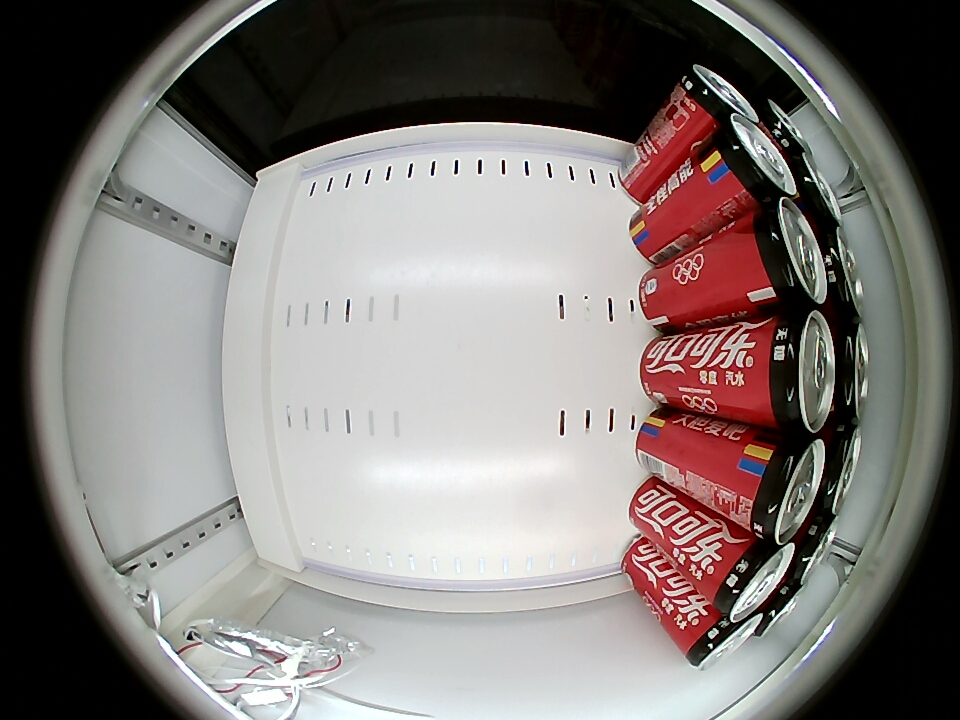lingdukele: (748, 310, 835, 433), (736, 432, 826, 546), (742, 197, 826, 309), (706, 534, 795, 624), (710, 113, 796, 206), (674, 65, 756, 129), (682, 606, 763, 670), (814, 422, 863, 514), (817, 231, 865, 324), (826, 320, 869, 420), (789, 154, 844, 231), (787, 512, 839, 586), (758, 99, 811, 161), (756, 582, 807, 637)
